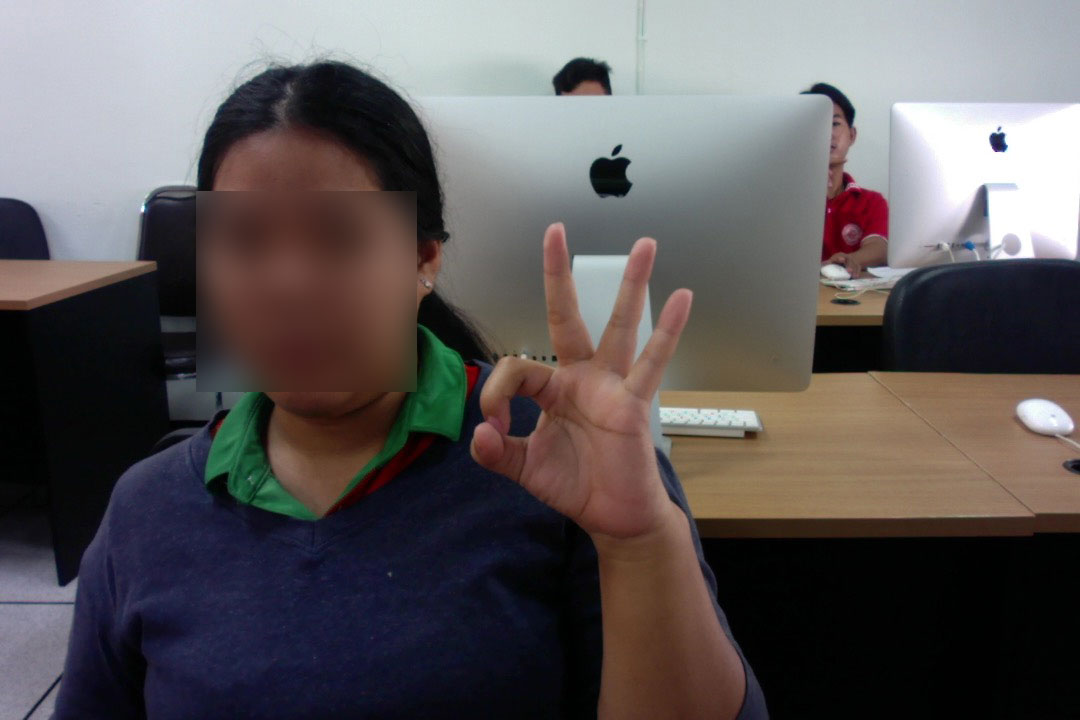for: (461, 203, 702, 549)
